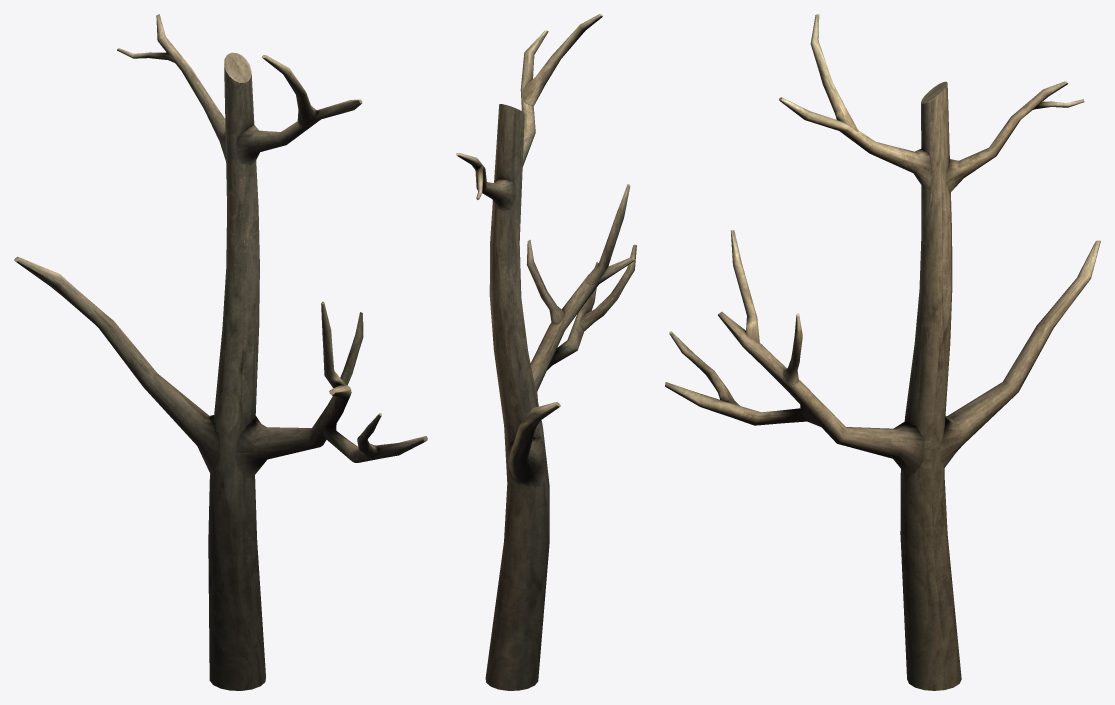
Rendered from SM_Rama_00.fbx.
3 renders of one model, left to right at view 1: azimuth 30°, elevation 25°; view 2: azimuth 150°, elevation 25°; view 3: azimuth 270°, elevation 25°, orthographic. The views are drawn at different scales.
Visible parts, largest first — view 1: Rama_00_LOD0; view 2: Rama_00_LOD0; view 3: Rama_00_LOD0.
Boxes of the visible parts, bbox=[...] form: Rama_00_LOD0: bbox=[14, 14, 427, 690]; Rama_00_LOD0: bbox=[456, 14, 636, 690]; Rama_00_LOD0: bbox=[665, 14, 1100, 690].
Size of what is drawn, in the model's own units: 15.41 by 52 by 31.63.
